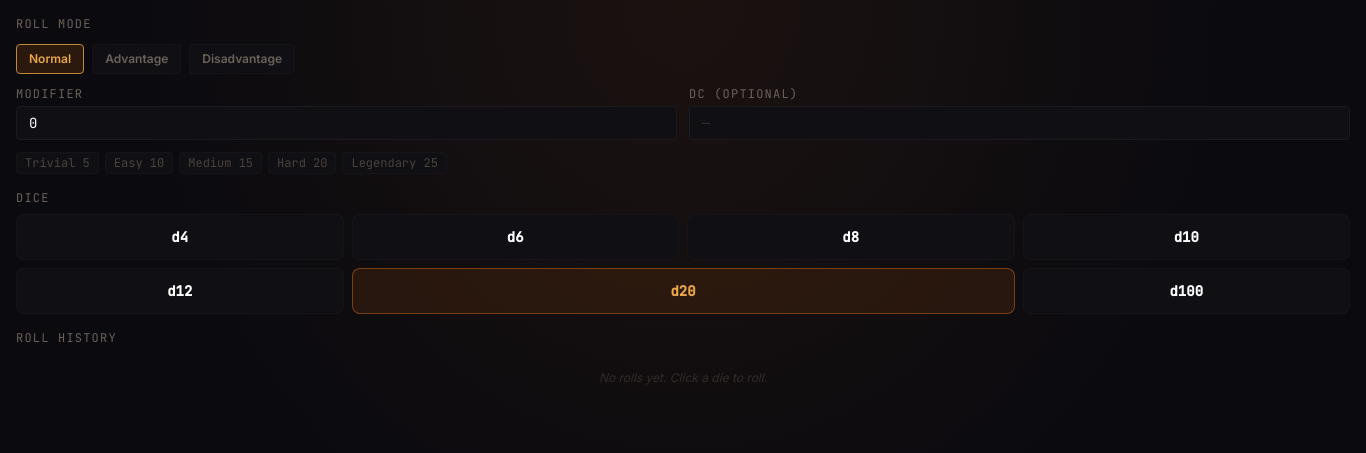
DicePanel — rolling dice › adds a roll to history when a die button is clicked
The image size is (1366, 453).
Step 1. Click the button "d6" → {"x": 515, "y": 237}, box [352,214,679,260]
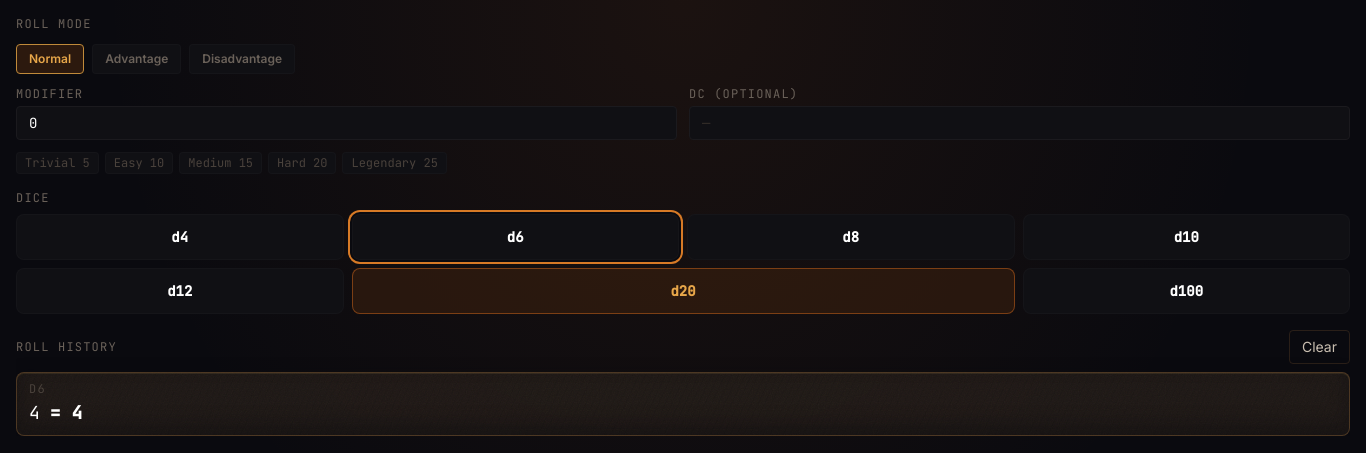
Check: the text "No rolls yet" is gone
